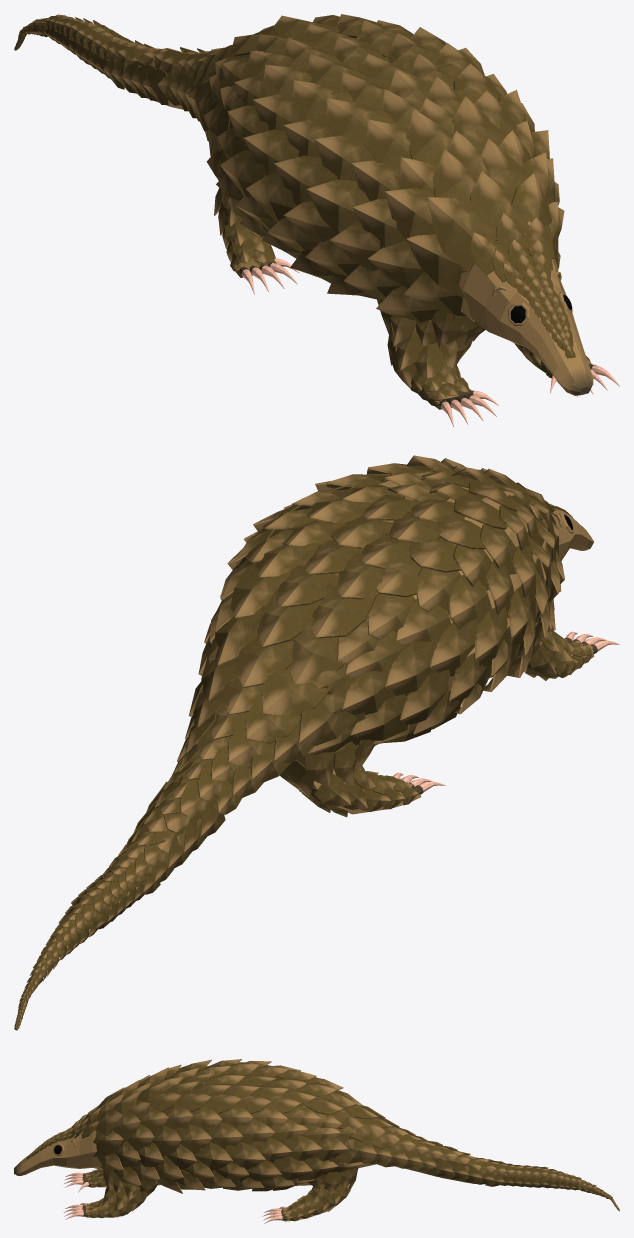
File: Manis Javanica.fbx
3 views of the same model, one above another, from view 1: azimuth 30°, elevation 25°; view 2: azimuth 150°, elevation 25°; view 3: azimuth 270°, elevation 25° (orthographic). The views are drawn at different scales.
Visible parts, largest first — view 1: Cube.002; view 2: Cube.002; view 3: Cube.002.
Boxes of the visible parts, x1,y1,x2,y2 form: Cube.002: [14, 14, 619, 426]; Cube.002: [14, 455, 619, 1030]; Cube.002: [14, 1059, 619, 1223].
Size of the model in its own units: 130 by 121 by 480.
Materials: 1 (1 with a texture image).
